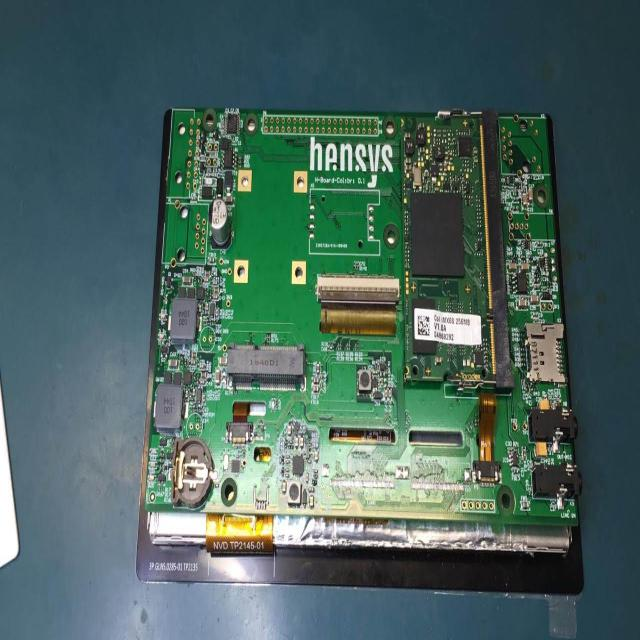som: (397, 112, 501, 385)
